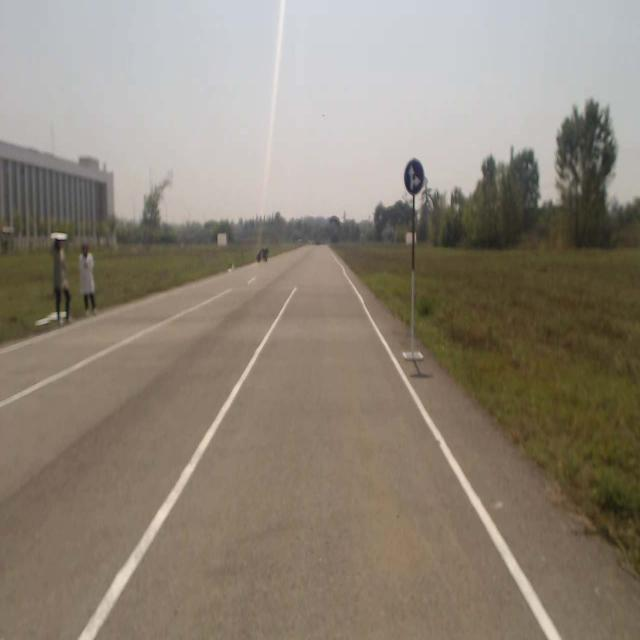ilerisag: (404, 158, 424, 198)
